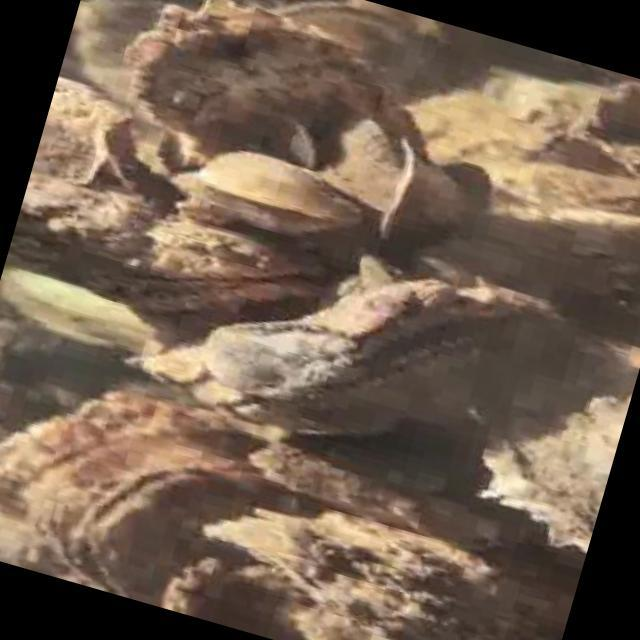Oyster- Indeterminate: (0, 169, 333, 367), (11, 351, 267, 600), (196, 488, 551, 640), (0, 349, 220, 521), (246, 420, 512, 550), (134, 4, 384, 136), (198, 316, 357, 412), (160, 549, 314, 640), (27, 76, 117, 190), (77, 0, 159, 100)
Oyster-Closed: (140, 268, 572, 447), (183, 136, 371, 254), (1, 264, 165, 372)
Oyster-Open: (71, 414, 313, 623)
